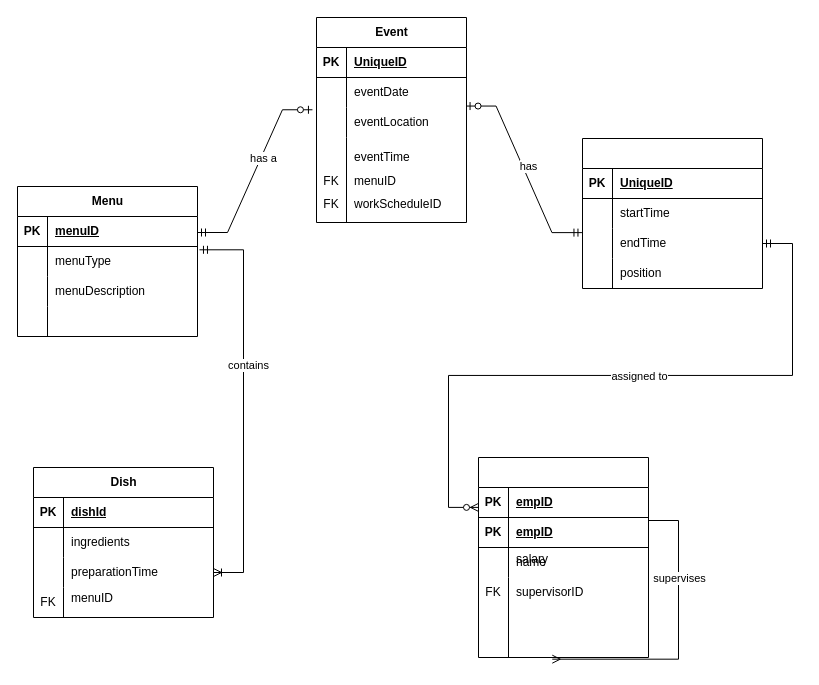
Some shapes in this 819 by 685 pixel diagram are drawn without their labels. Here are the shapes that lost their labels. From the top down, the box of each, then its label:
(582, 138, 762, 288): Work_schedule
(478, 456, 648, 658): Staff
